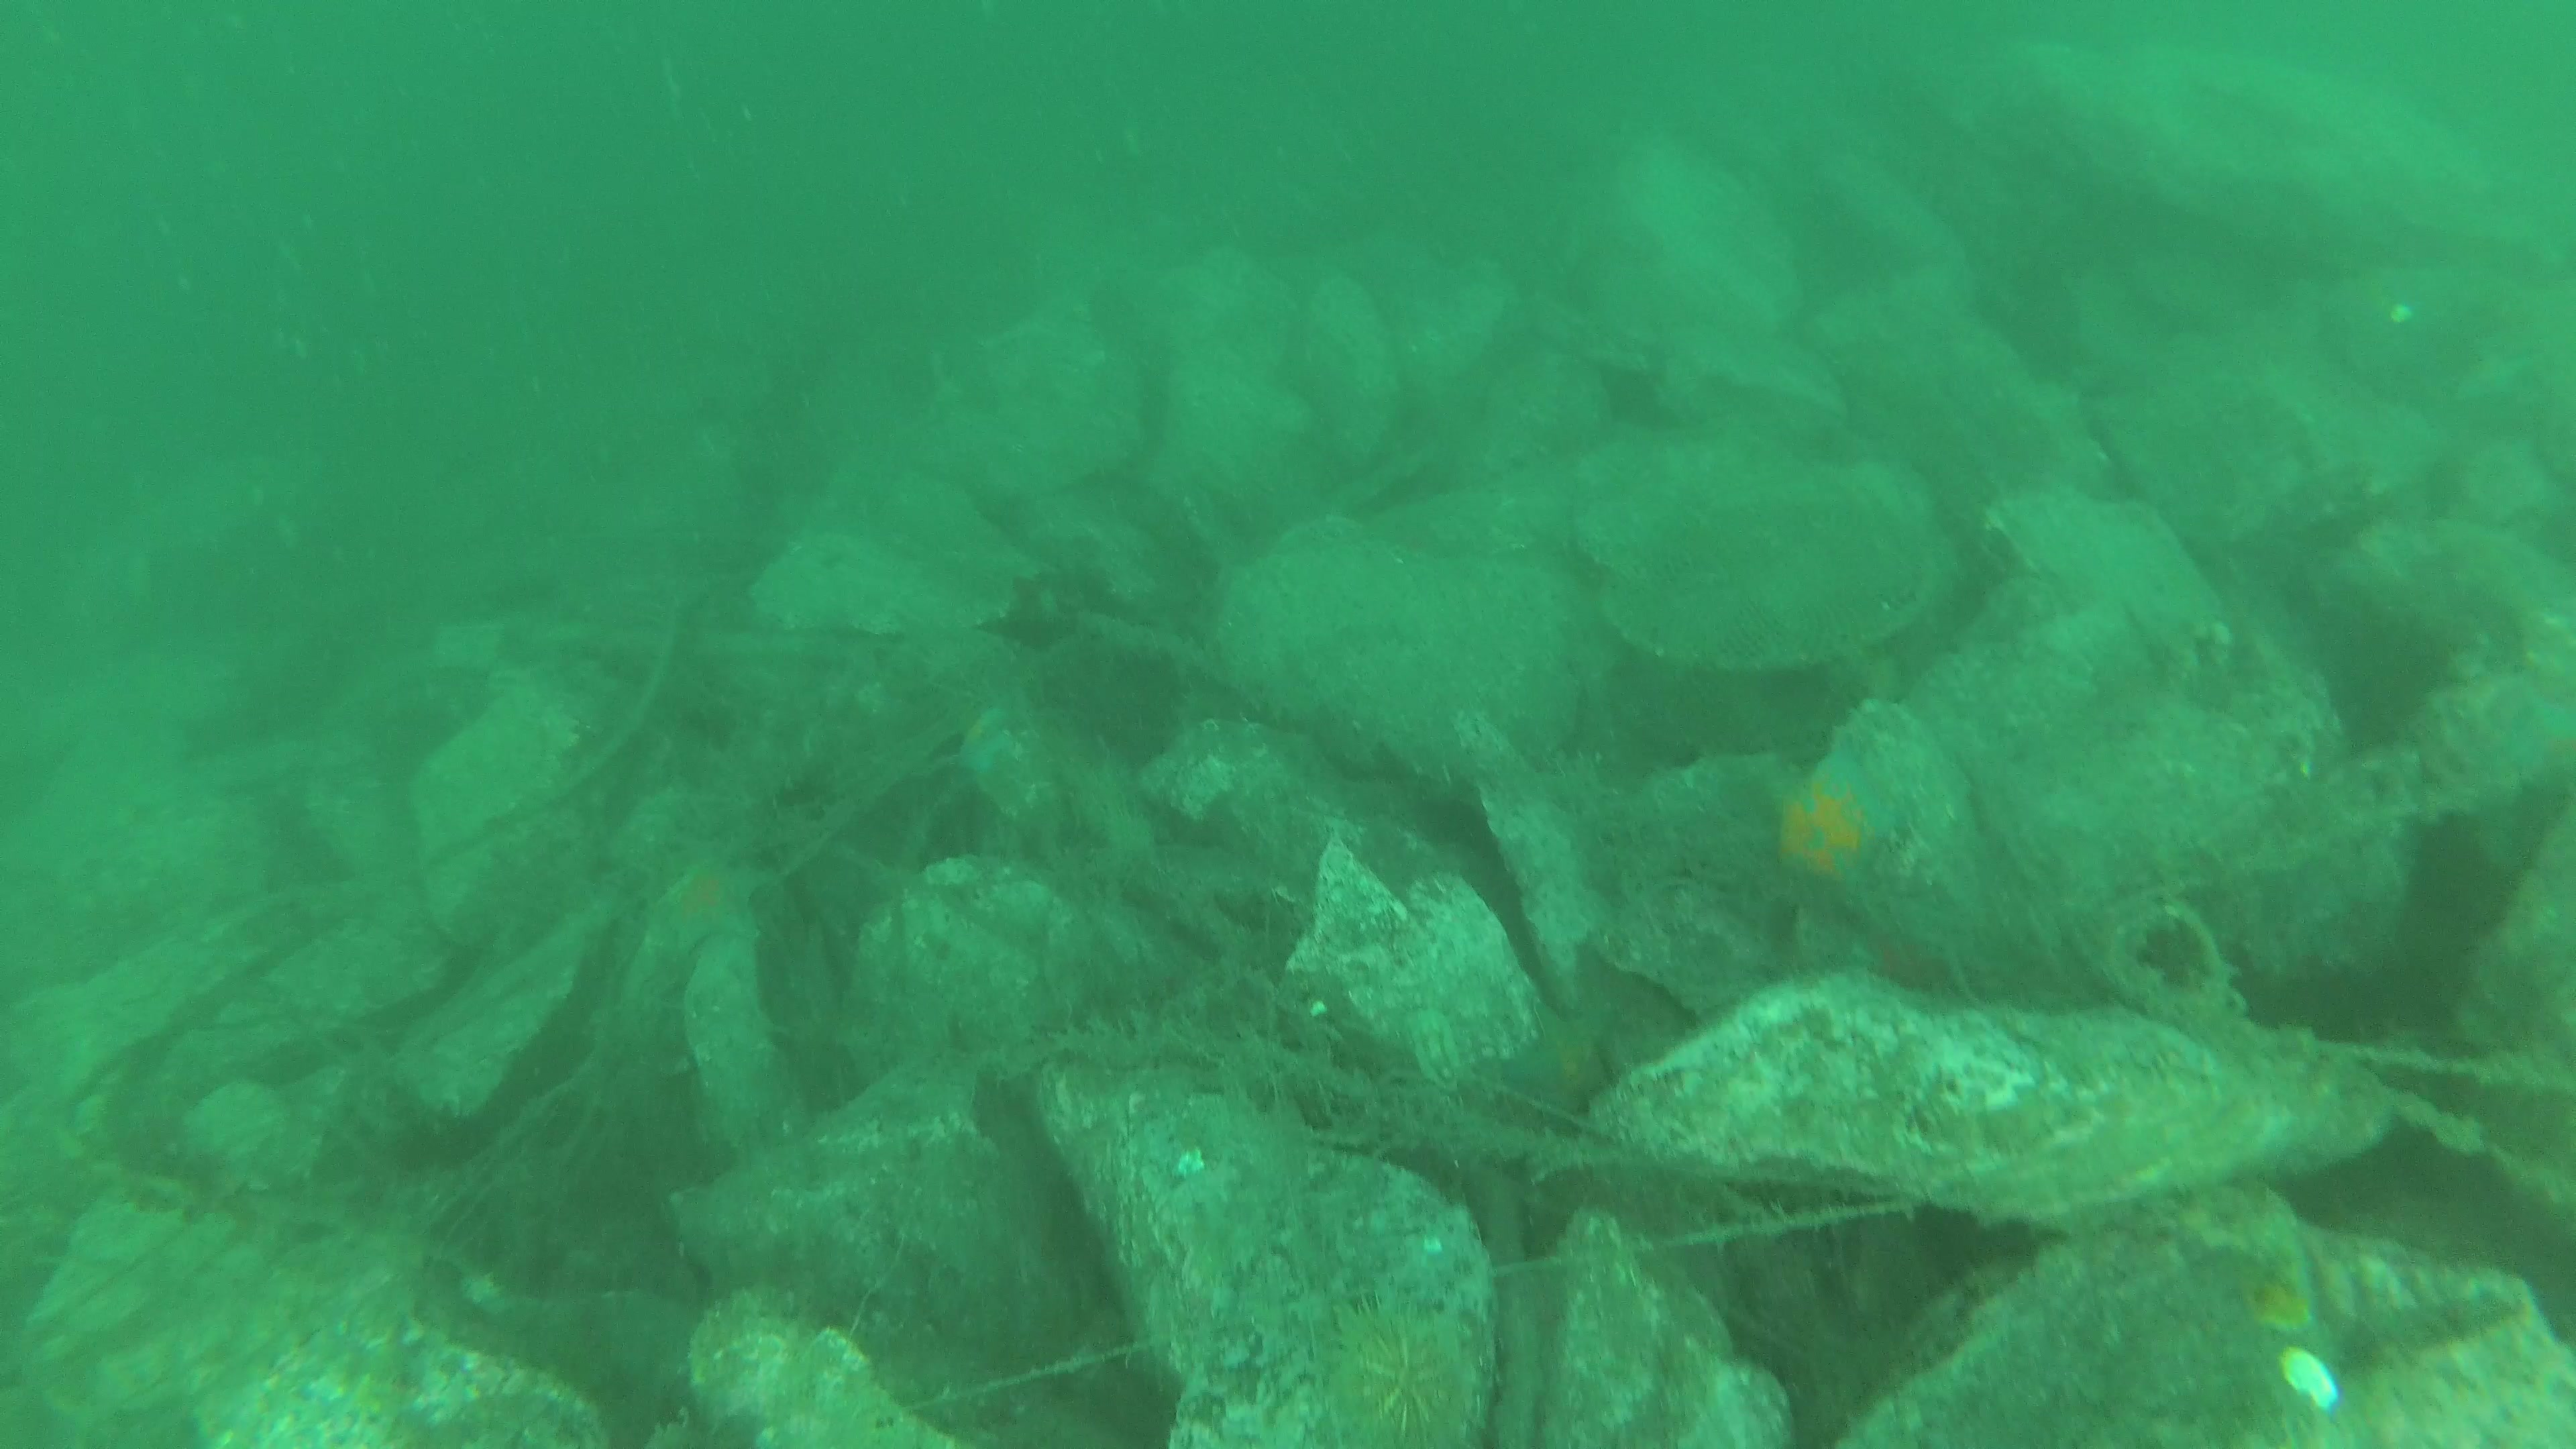echinus: (1320, 1284, 1476, 1437)
starfish: (2171, 1180, 2357, 1407), (1759, 729, 1920, 943), (612, 844, 778, 973), (1493, 987, 1642, 1115), (911, 711, 1024, 807)
